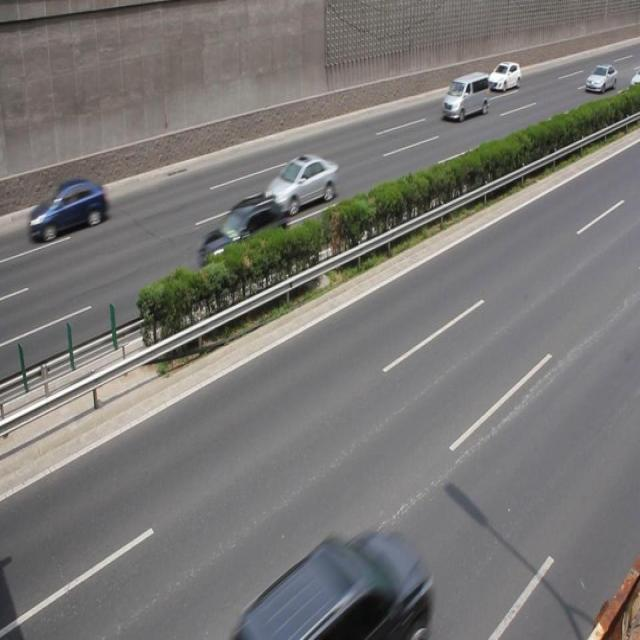car: (250, 530, 427, 640), (194, 196, 287, 280), (264, 151, 338, 214), (35, 180, 108, 238), (583, 62, 616, 94), (487, 61, 520, 92)
truck: (441, 72, 489, 121)
